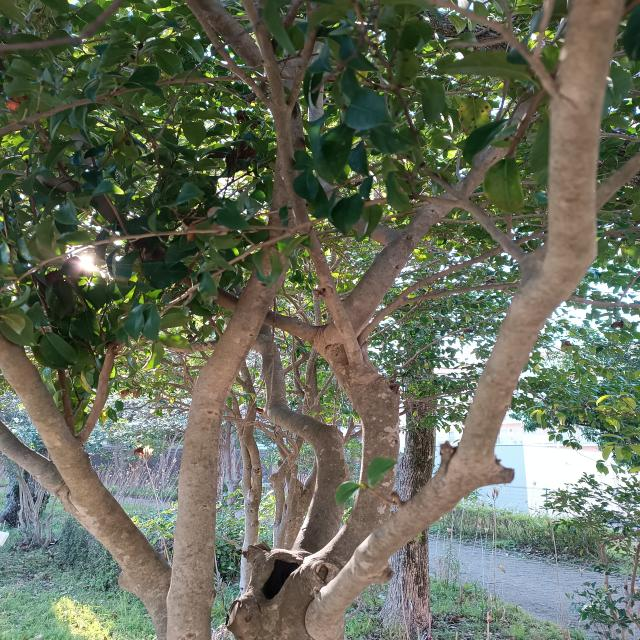Branch: (306, 1, 626, 639), (170, 174, 290, 640), (0, 329, 170, 638), (83, 182, 318, 348), (330, 144, 505, 336), (318, 324, 406, 568), (1, 421, 61, 498)
Twig: (240, 0, 360, 362), (357, 228, 640, 346), (399, 148, 526, 265)
